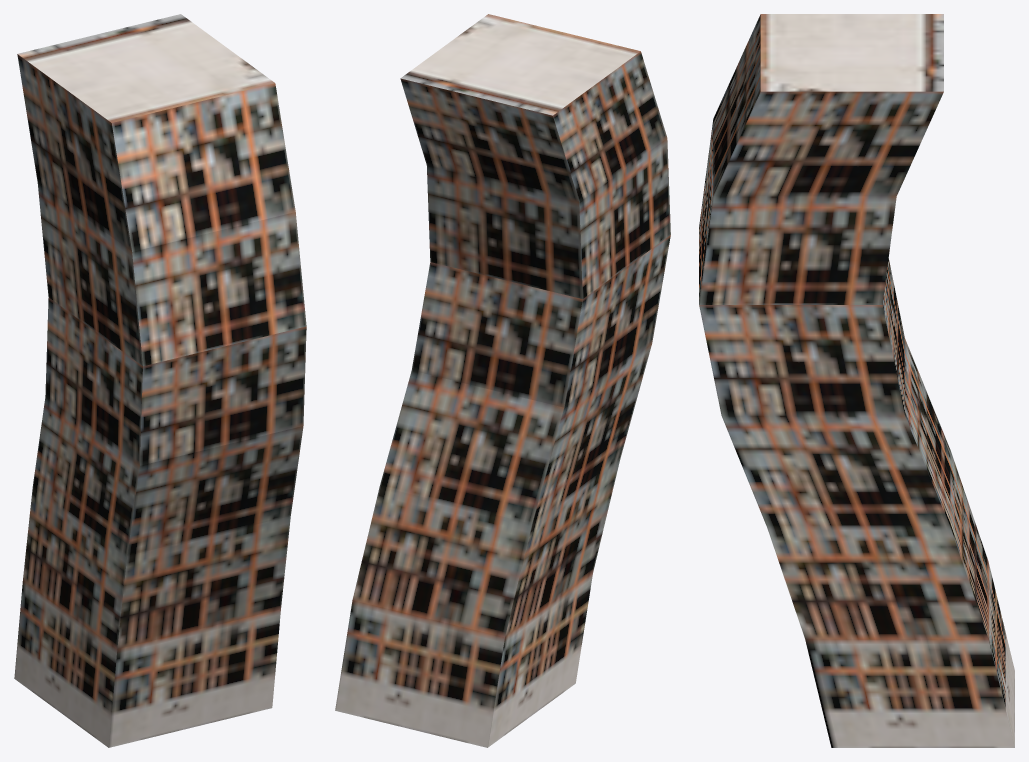
File: Building1.fbx
3 views of the same model, side by side, from view 1: azimuth 30°, elevation 25°; view 2: azimuth 150°, elevation 25°; view 3: azimuth 270°, elevation 25° (orthographic). The views are drawn at different scales.
Parts seen in each view (by area): view 1: dressings_Cube_008; view 2: dressings_Cube_008; view 3: dressings_Cube_008.
Part boxes in pixels (x1,y1,x2,y2): dressings_Cube_008: (14,14,306,747); dressings_Cube_008: (335,14,670,747); dressings_Cube_008: (699,14,1014,747).
Size of the model in its own units: 1479 by 4635 by 2071.
1 material, 1 textured.
